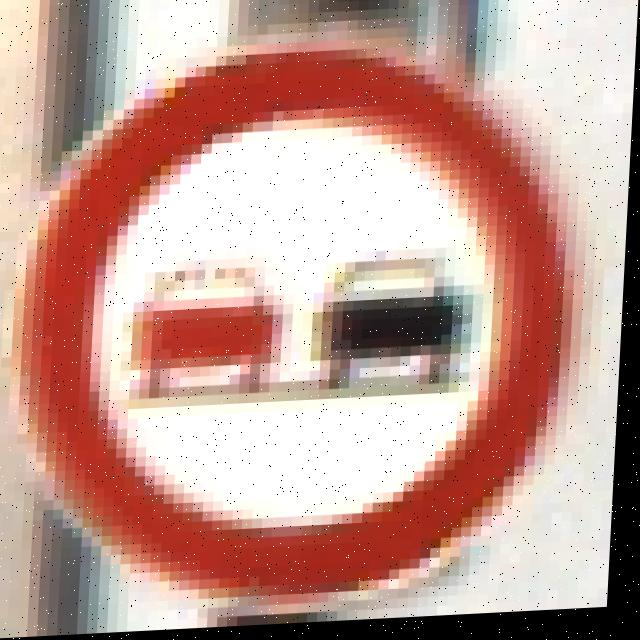no_overtaking: (1, 24, 600, 616)
